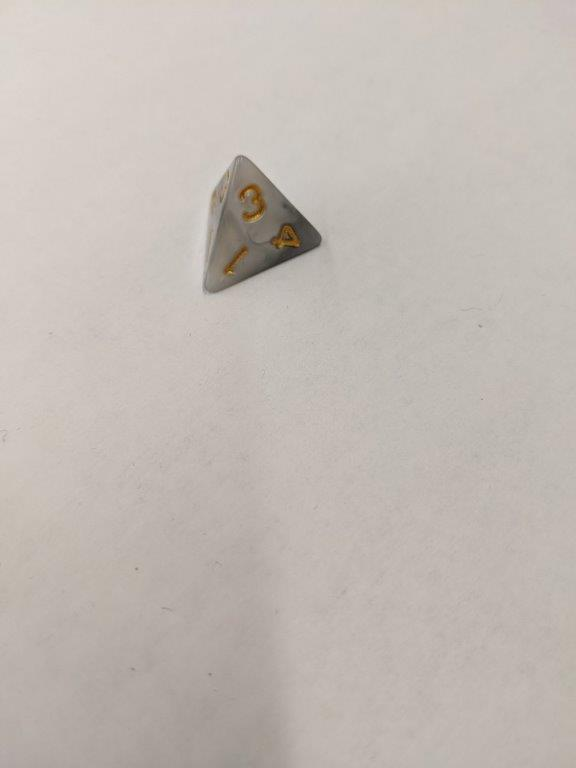d4-3: (200, 149, 327, 296)
